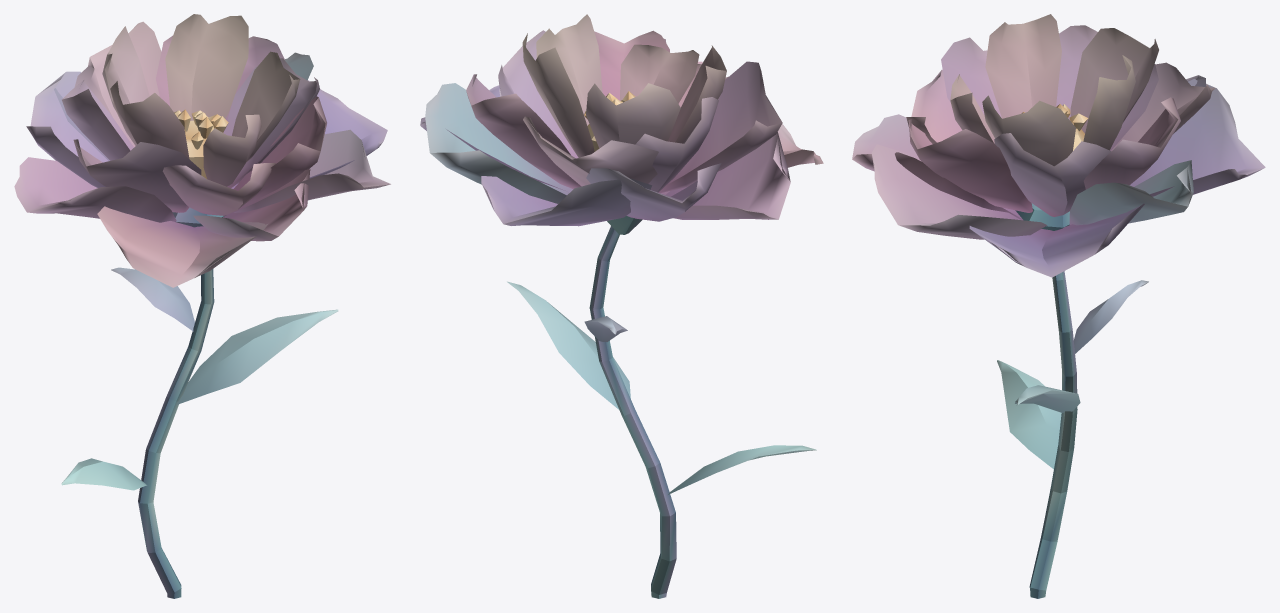
The model's file is crystal_flower.glb.
The picture shows the model from 3 angles, left to right: view 1: azimuth 30°, elevation 25°; view 2: azimuth 150°, elevation 25°; view 3: azimuth 270°, elevation 25°; orthographic projection. The views are drawn at different scales.
Parts seen in each view (by area): view 1: Outer Petal Pivot, Middle Petal Pivot, Inner Petal Pivot, Stem, calyx and foliage, Champagne heart; view 2: Outer Petal Pivot, Middle Petal Pivot, Inner Petal Pivot, Stem, calyx and foliage; view 3: Outer Petal Pivot, Middle Petal Pivot, Inner Petal Pivot, Stem, calyx and foliage.
Part boxes in pixels (x1,y1,x2,y2): Outer Petal Pivot: [14, 52, 390, 287]; Middle Petal Pivot: [62, 21, 326, 215]; Inner Petal Pivot: [102, 14, 300, 186]; Stem, calyx and foliage: [61, 207, 338, 598]; Champagne heart: [174, 109, 228, 178]; Outer Petal Pivot: [420, 38, 823, 226]; Middle Petal Pivot: [466, 30, 782, 193]; Inner Petal Pivot: [522, 14, 726, 157]; Stem, calyx and foliage: [507, 216, 816, 598]; Outer Petal Pivot: [852, 75, 1265, 277]; Middle Petal Pivot: [906, 25, 1215, 216]; Inner Petal Pivot: [950, 14, 1158, 166]; Stem, calyx and foliage: [997, 203, 1148, 598].
Bounding box in the file's own units: 0.4272 × 0.6236 × 0.4094.
